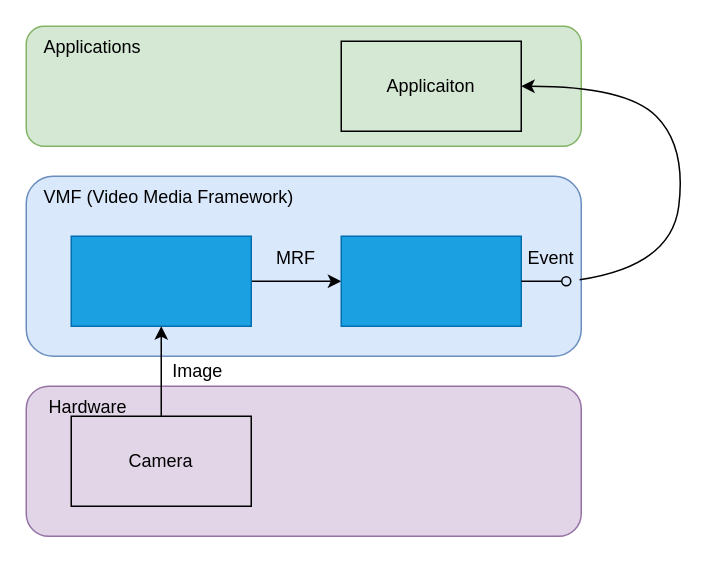
Some shapes in this 707 by 563 pixel diagram are drawn without their labels. Here are the shapes that lost their labels. From the top down, the centre of each, then its label:
[160,280]: IFP
[430,280]: ISP
